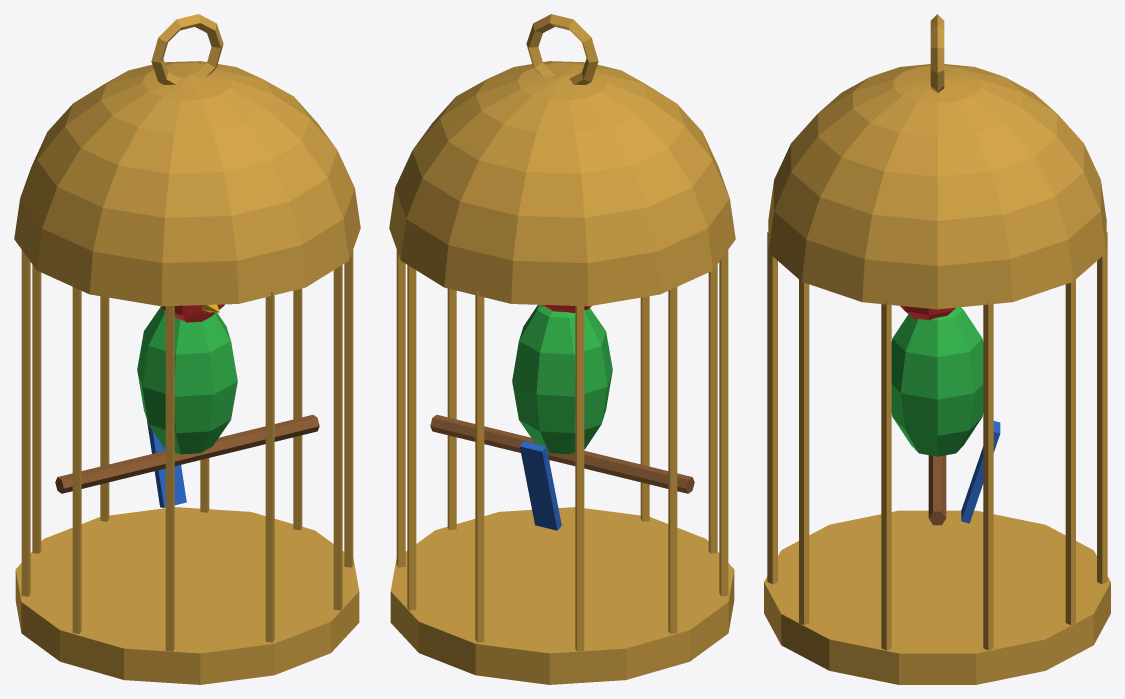
Rendered from carwash_parrot_cage.glb.
3 renders of one model, left to right at view 1: azimuth 30°, elevation 25°; view 2: azimuth 150°, elevation 25°; view 3: azimuth 270°, elevation 25°, orthographic.
Parts seen in each view (by area): view 1: top_cage_brass, base_cage_brass, bars_cage_brass, parrot_parrot_green, perch_cage_perch, hook_cage_brass, parrot_parrot_tail, parrot_parrot_red; view 2: top_cage_brass, base_cage_brass, bars_cage_brass, parrot_parrot_green, perch_cage_perch, parrot_parrot_tail, hook_cage_brass; view 3: top_cage_brass, base_cage_brass, bars_cage_brass, parrot_parrot_green, perch_cage_perch, hook_cage_brass, parrot_parrot_tail.
Boxes of the visible parts, x1,y1,x2,y2 form: top_cage_brass: (14, 61, 360, 306); base_cage_brass: (15, 507, 359, 684); bars_cage_brass: (21, 245, 353, 651); parrot_parrot_green: (137, 306, 237, 454); perch_cage_perch: (55, 415, 319, 493); hook_cage_brass: (151, 14, 223, 84); parrot_parrot_tail: (147, 420, 186, 507); parrot_parrot_red: (161, 304, 224, 322); top_cage_brass: (389, 61, 735, 306); base_cage_brass: (390, 507, 734, 684); bars_cage_brass: (396, 245, 728, 651); parrot_parrot_green: (512, 304, 612, 454); perch_cage_perch: (430, 415, 694, 493); parrot_parrot_tail: (519, 441, 561, 530); hook_cage_brass: (526, 14, 598, 84); top_cage_brass: (768, 64, 1106, 309); base_cage_brass: (764, 510, 1110, 684); bars_cage_brass: (767, 231, 1107, 650); parrot_parrot_green: (891, 307, 983, 456); perch_cage_perch: (928, 455, 946, 525); hook_cage_brass: (930, 14, 944, 92); parrot_parrot_tail: (961, 421, 1000, 523).
Size of the model in its own units: 0.4 by 0.7557 by 0.4.
